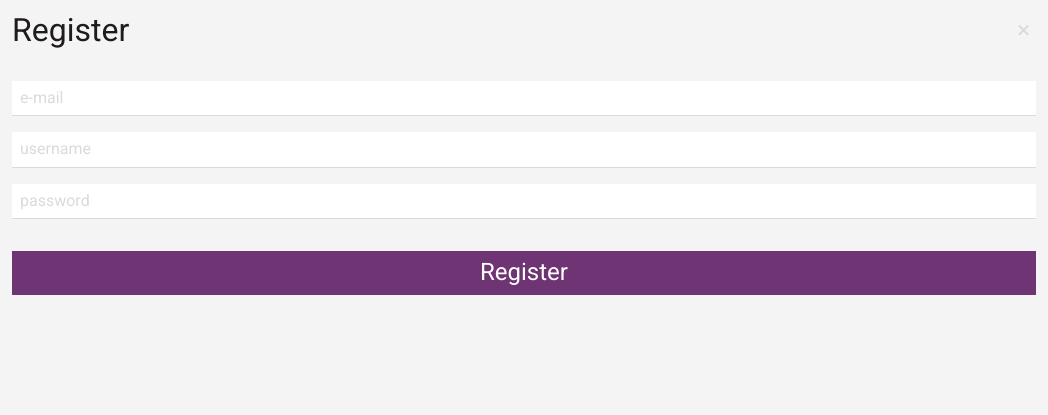
Test case: <RegisterForm/> › Should display error if username is too long
The image size is (1048, 415).
In the field with placeholder "username": [524, 150] box x1=12 y1=132 x2=1036 y2=168, type "uasdfdghdhtyrrjyrtryjutjkutktudhujhjtyujkudiojukuiykiuydki"
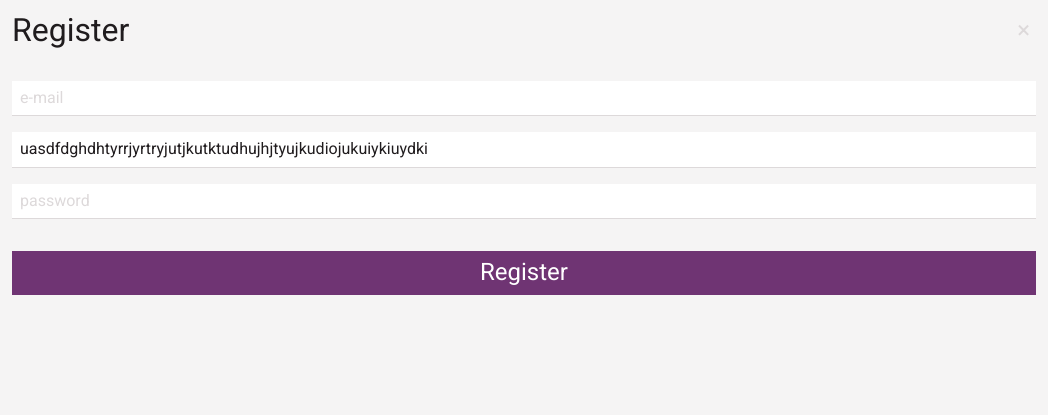
Click the button with test id "submitButton": [524, 273] box x1=12 y1=251 x2=1036 y2=295
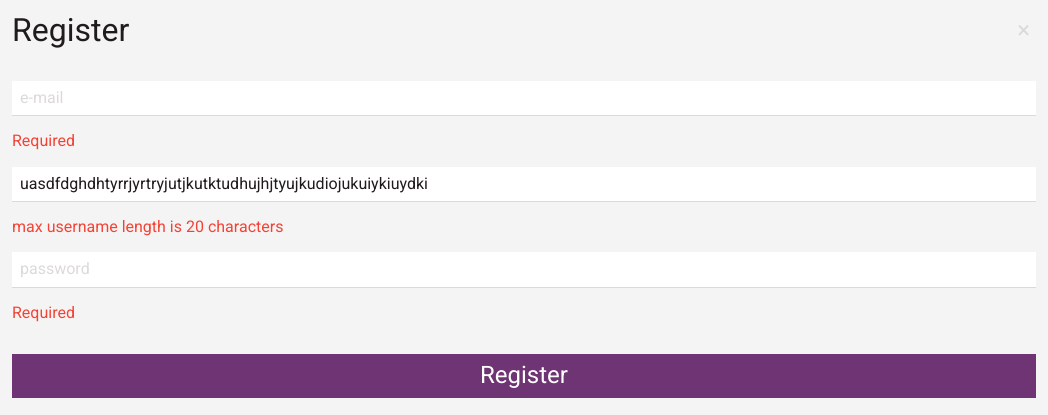
Expected: the text "Required" is shown 2 times, x1=12 y1=131 x2=75 y2=150; x1=12 y1=303 x2=75 y2=322
Expected: the text "max username length is 20 characters" is shown, x1=12 y1=217 x2=283 y2=236
